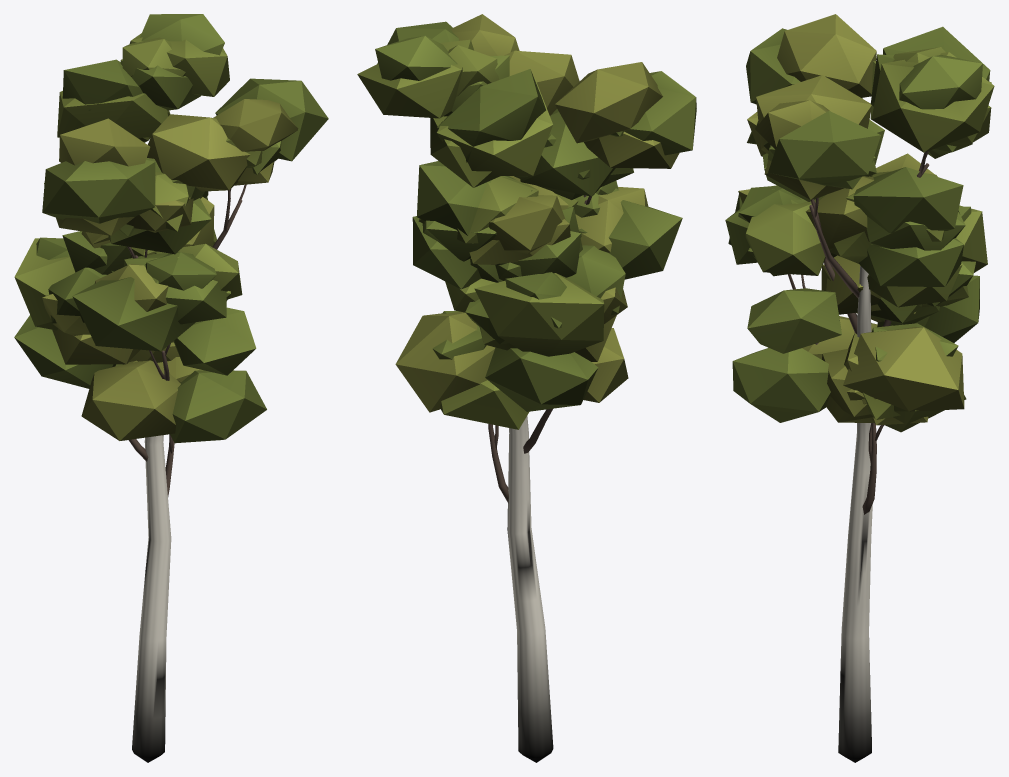
Rendered from birch.glb.
3 views of the same model, side by side, from view 1: azimuth 30°, elevation 25°; view 2: azimuth 150°, elevation 25°; view 3: azimuth 270°, elevation 25° (orthographic). The views are drawn at different scales.
Parts seen in each view (by area): view 1: Birch; view 2: Birch; view 3: Birch.
Part boxes in pixels (x1,y1,x2,y2): Birch: [14, 14, 328, 762]; Birch: [357, 14, 696, 762]; Birch: [725, 14, 994, 762].
Size of the model in its own units: 3.11 by 7.4 by 2.43.
